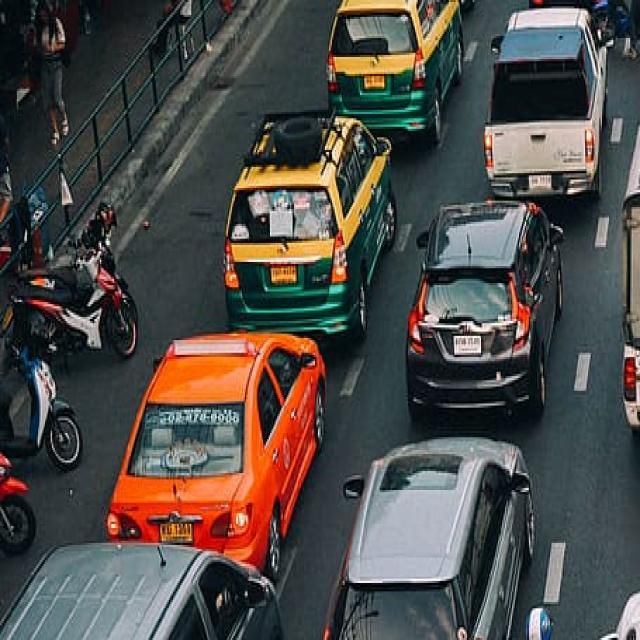bike: (11, 258, 143, 364), (1, 332, 85, 469), (1, 448, 40, 566), (496, 631, 592, 640)
car: (106, 328, 334, 572), (316, 437, 538, 640), (222, 116, 399, 340), (404, 199, 554, 426), (0, 536, 284, 640), (481, 6, 611, 202), (323, 2, 465, 147), (616, 154, 640, 435), (241, 112, 333, 179)
